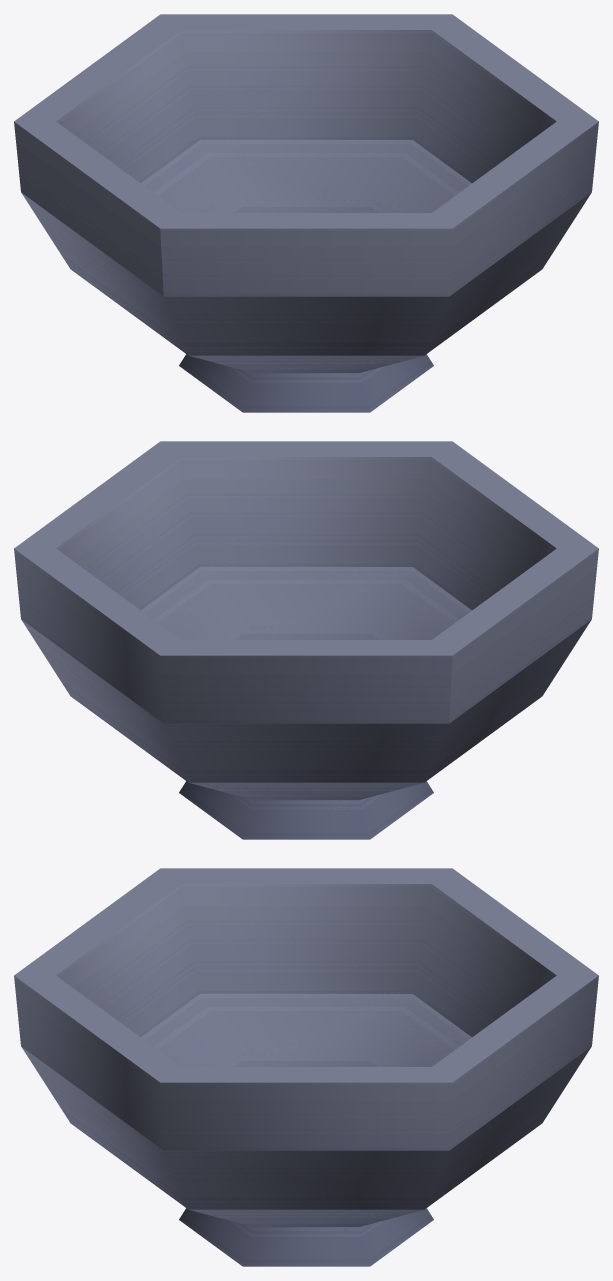
File: mortar.glb
3 views of the same model, one above another, from view 1: azimuth 30°, elevation 25°; view 2: azimuth 150°, elevation 25°; view 3: azimuth 270°, elevation 25° (orthographic).
Visible parts, largest first — view 1: mortar; view 2: mortar; view 3: mortar.
Part boxes in pixels (x1,y1,x2,y2): mortar: (14, 14, 598, 412); mortar: (14, 441, 598, 839); mortar: (14, 868, 598, 1266).
Size of the model in its own units: 0.3955 by 0.2104 by 0.4567.
Materials: 1 (1 with a texture image).
